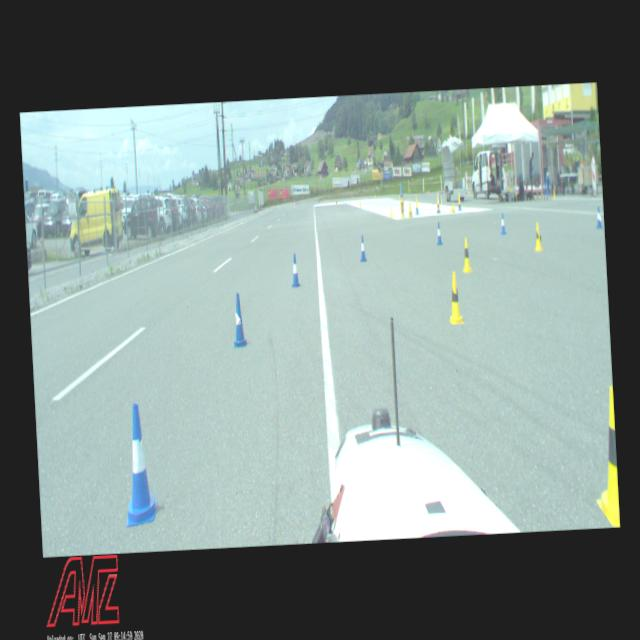blue_cone: (120, 402, 159, 526), (232, 293, 246, 347), (290, 253, 300, 287), (360, 236, 367, 262), (499, 213, 506, 234), (436, 222, 442, 245), (596, 206, 602, 228)
yellow_cone: (590, 387, 620, 528), (447, 272, 464, 324), (461, 237, 473, 273), (534, 223, 542, 251)
